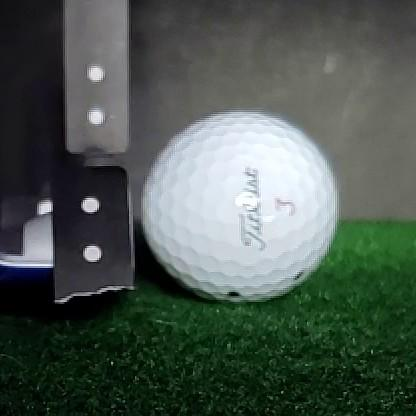golfball: (141, 112, 337, 303)
